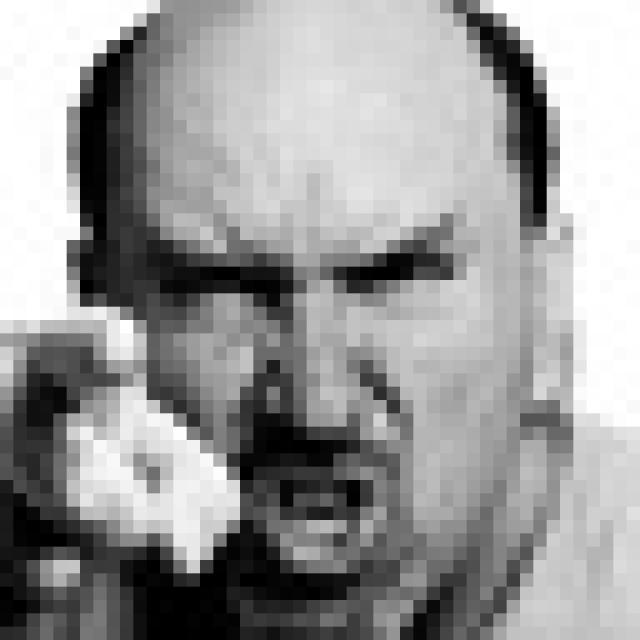angry: (144, 208, 467, 587)
